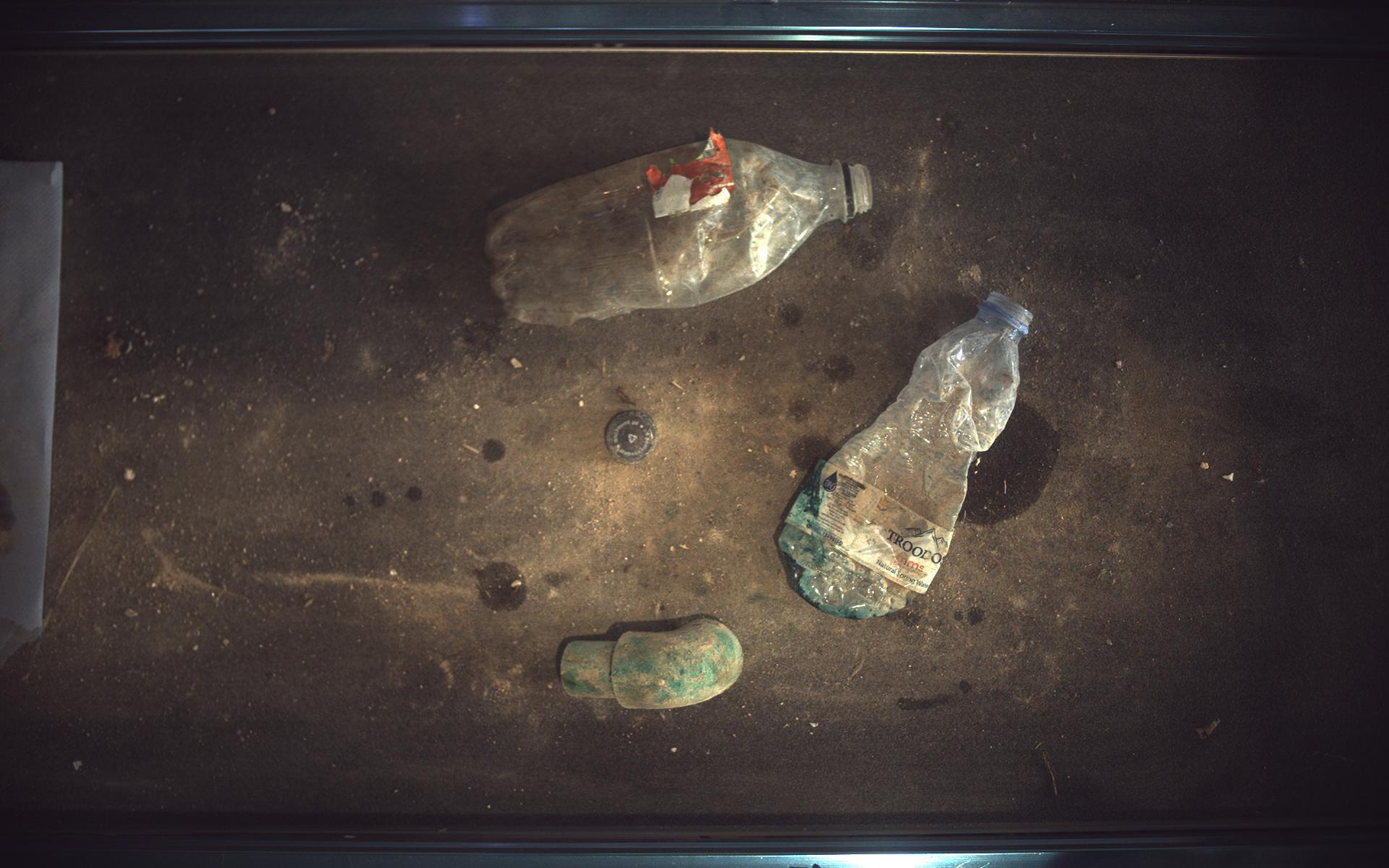general_w: (779, 292, 1035, 619), (486, 129, 875, 325), (606, 409, 658, 464)
pipes: (561, 619, 744, 710)
